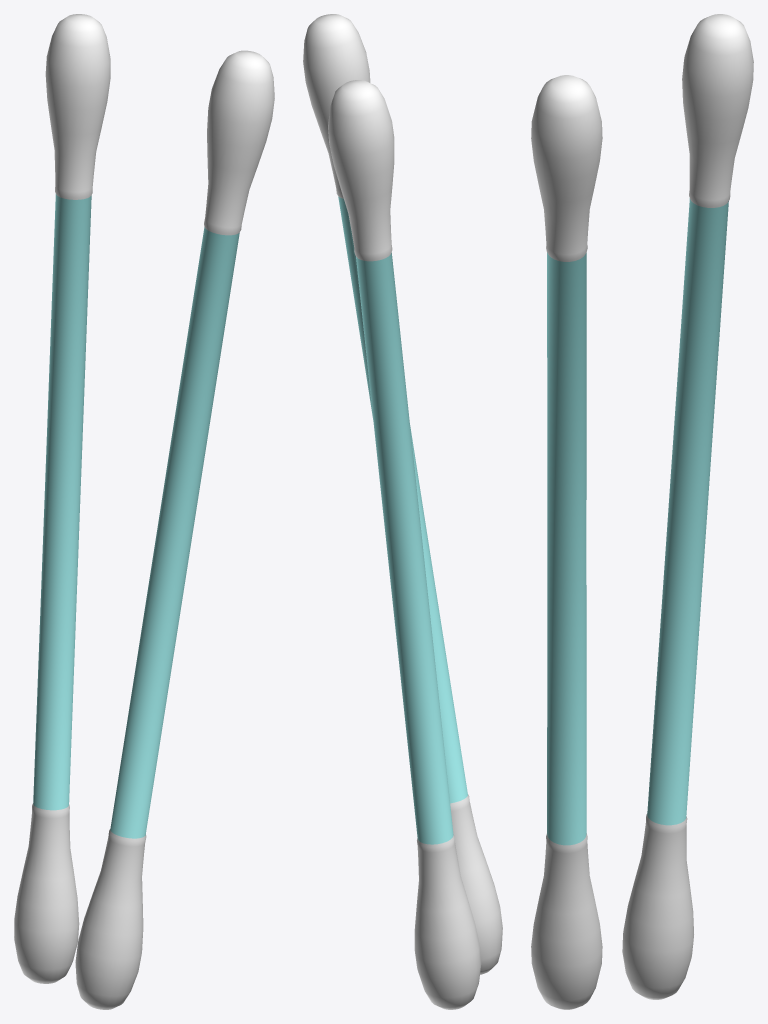
File: OT_182_q_tips.glb
3 renders of one model, left to right at view 1: azimuth 30°, elevation 25°; view 2: azimuth 150°, elevation 25°; view 3: azimuth 270°, elevation 25°, orthographic. The views are drawn at different scales.
Visible parts, largest first — view 1: q_tip2, q_tip1; view 2: q_tip2, q_tip1; view 3: q_tip2, q_tip1.
Part boxes in pixels (<box>): q_tip2: <box>14,14,110,983</box>; q_tip1: <box>75,50,274,1009</box>; q_tip2: <box>328,80,481,1009</box>; q_tip1: <box>303,14,502,974</box>; q_tip2: <box>622,14,753,999</box>; q_tip1: <box>531,75,602,1009</box>.
Bounding box in the file's own units: 0.6759 × 2.84 × 0.5671.
